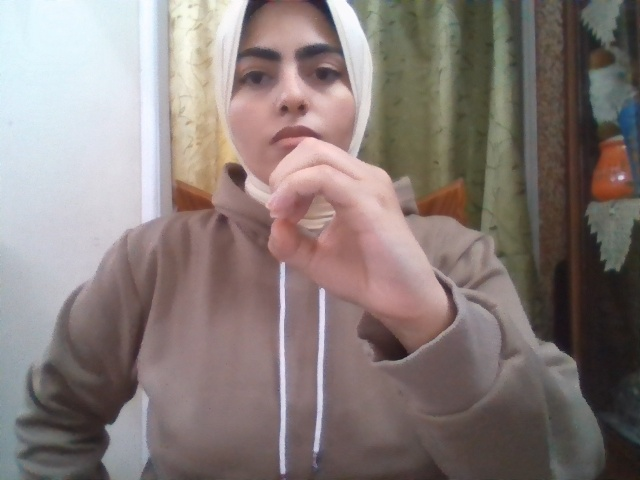O: (266, 137, 431, 324)
